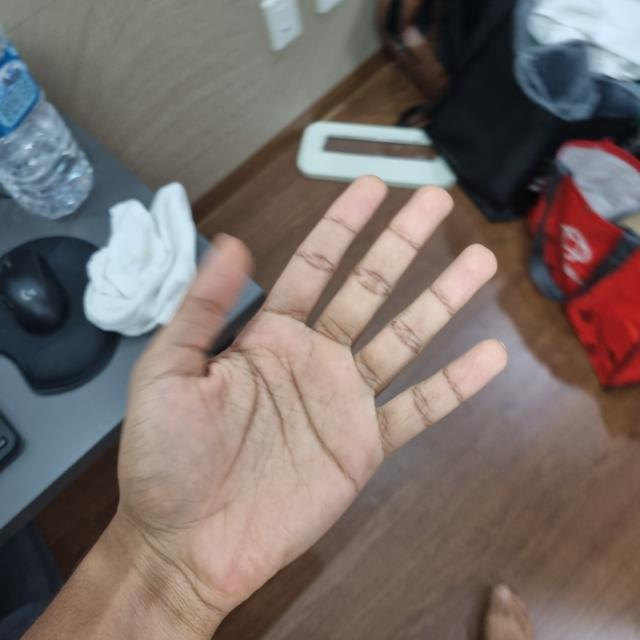Paper: (113, 240, 376, 624)
